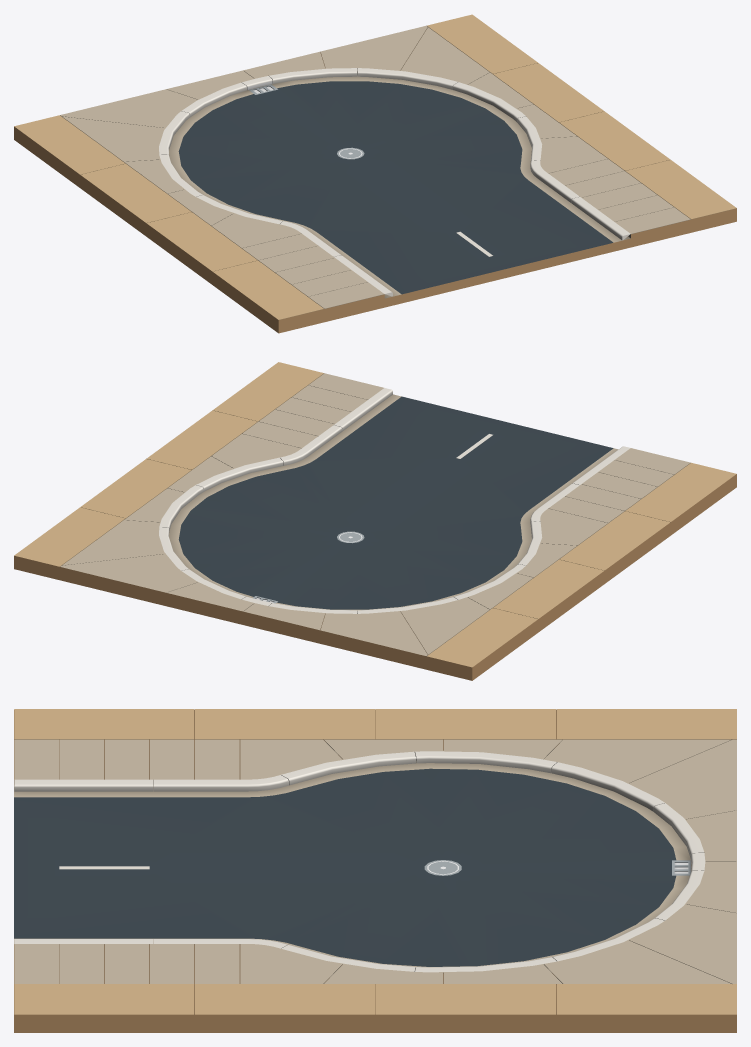
File: road_end.fbx
3 views of the same model, one above another, from view 1: azimuth 30°, elevation 25°; view 2: azimuth 150°, elevation 25°; view 3: azimuth 270°, elevation 25° (orthographic). The views are drawn at different scales.
Parts seen in each view (by area): view 1: road_end; view 2: road_end; view 3: road_end.
Part boxes in pixels (left/top/right/bottom): road_end: left=14, top=14, right=736, bottom=333; road_end: left=14, top=362, right=736, bottom=680; road_end: left=14, top=709, right=736, bottom=1032.
Bounding box in the file's own units: 16 × 0.45 × 16.
